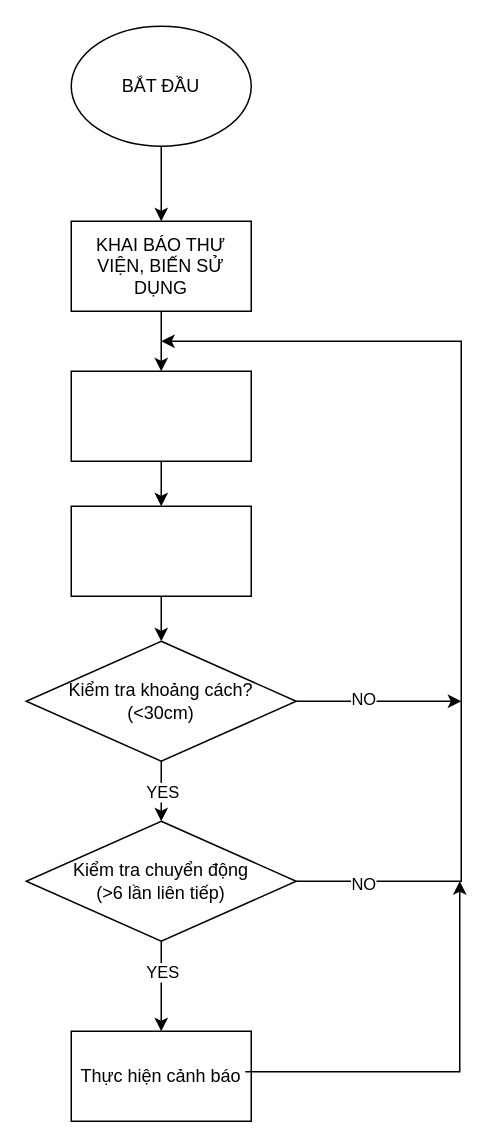
The diagram is 500 pixels wide and 1148 high, and some of its shapes have lost their labels. Here are the shapes that lost their labels. From the top down, the centre of each, then its label:
the point at 160,415: ĐỌC THỜI GIAN MỖI GIÂY
the point at 160,550: HIỂN THỊ THỜI GIAN
